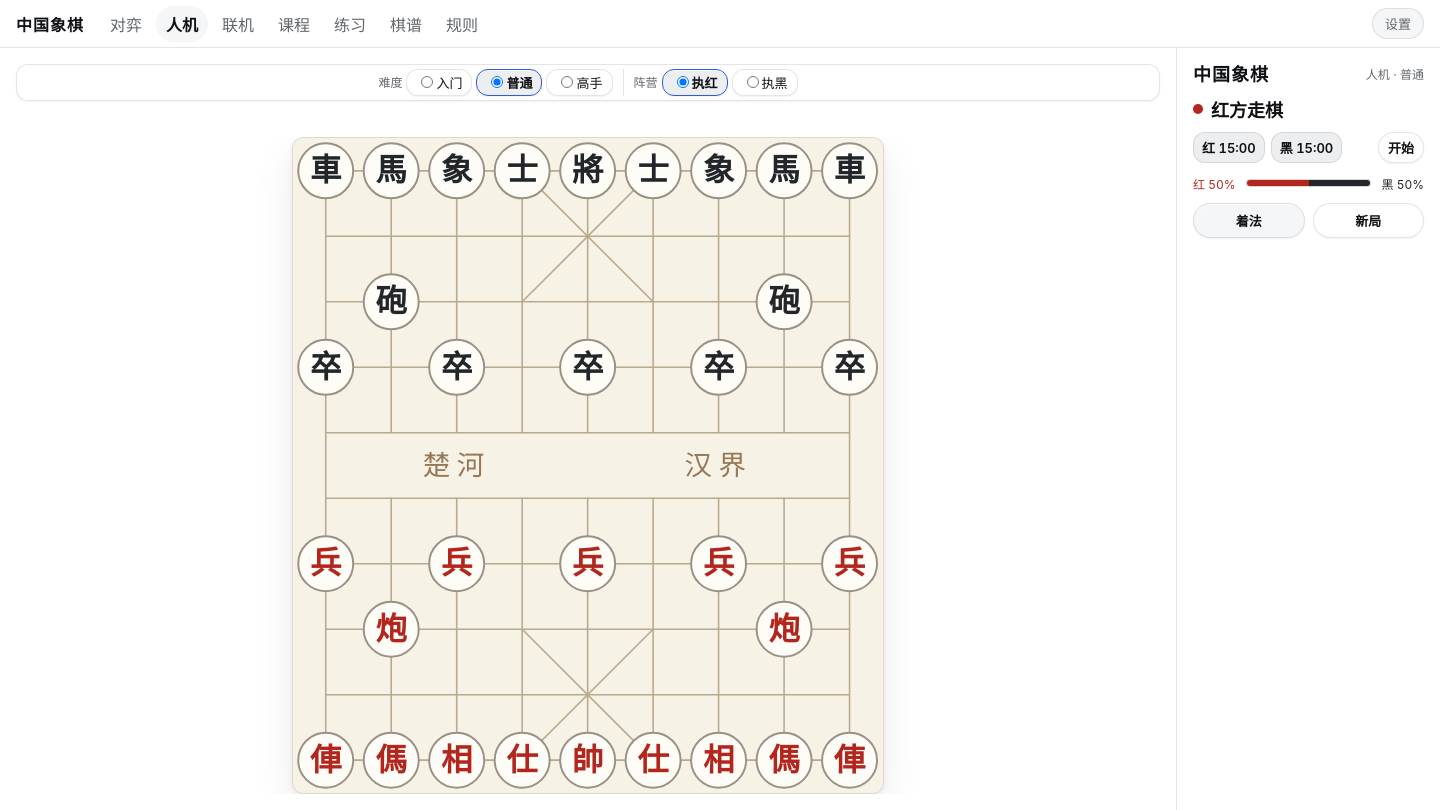
Test: F1-7 人机页：难度与阵营 › 默认普通档、执红，面板标签随难度变
expect the radio button labelled "普通" is checked: met, box [492,76,504,88]
expect the radio button labelled "执红" is checked: met, box [676,76,688,88]
Click the radio button labelled "高手".
click(568, 82)  # box [562,76,574,88]
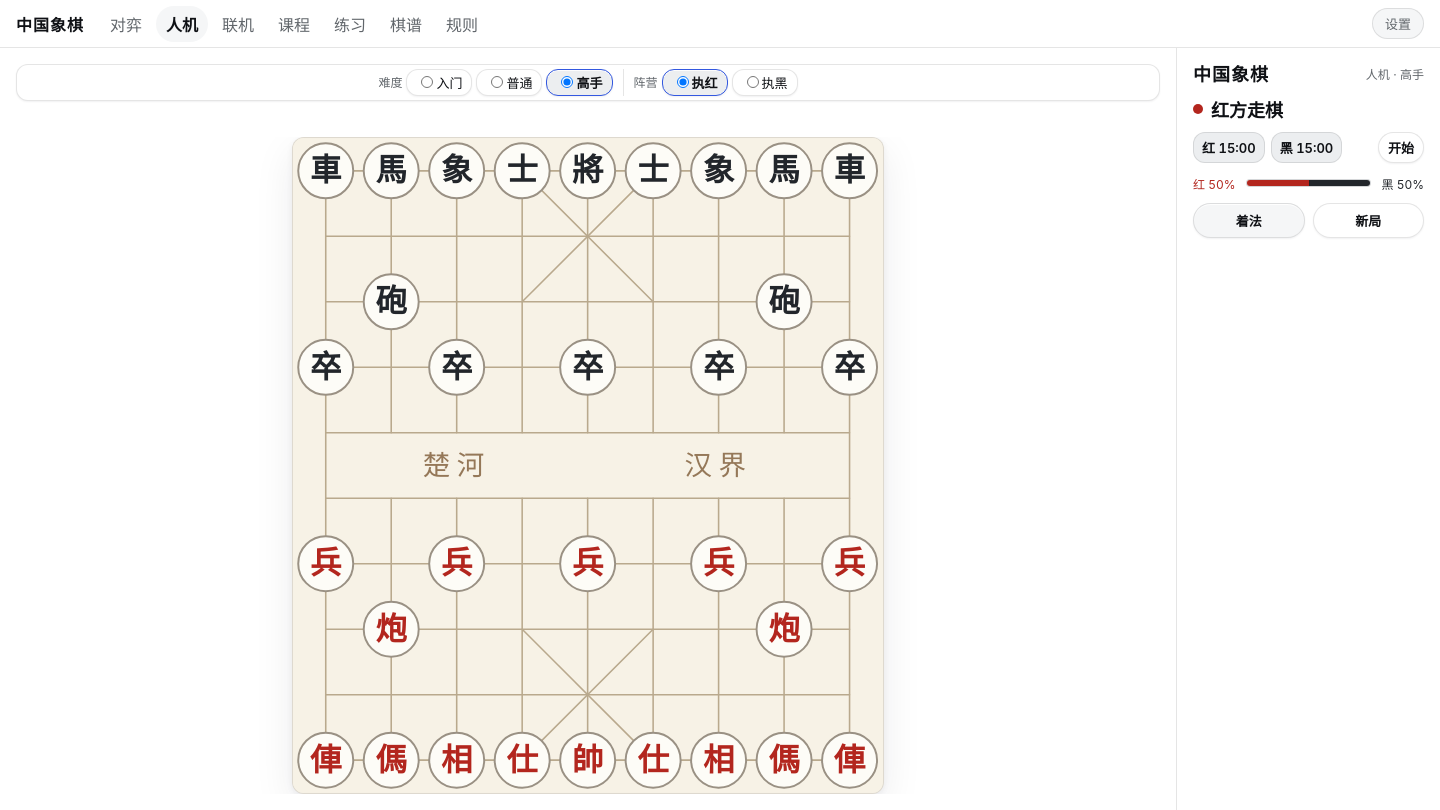
expect the radio button labelled "高手" is checked: met, box [562,76,574,88]
expect the text "人机 · 高手" is shown: met, box [1366,64,1424,82]
